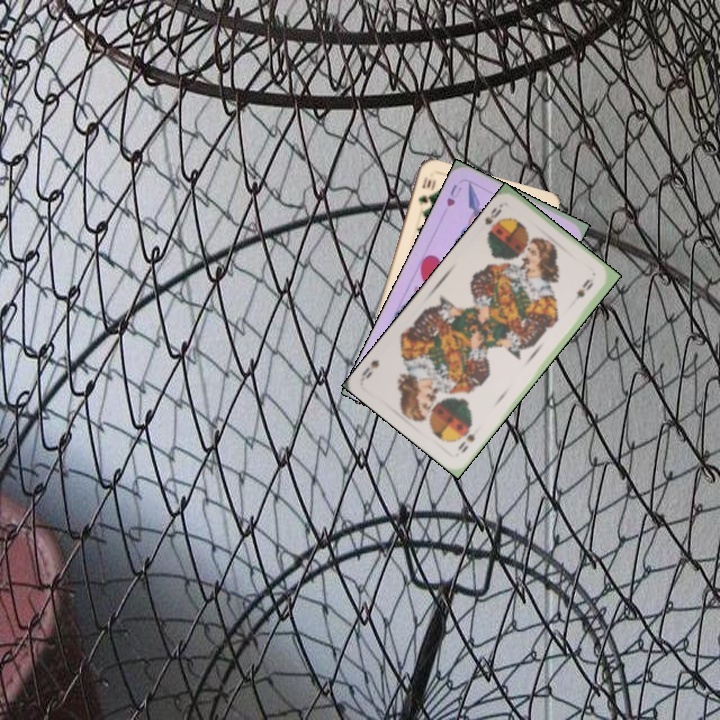G10: (414, 172, 437, 208)
HU: (442, 180, 464, 209)
SO: (480, 199, 506, 239), (454, 429, 478, 455)
